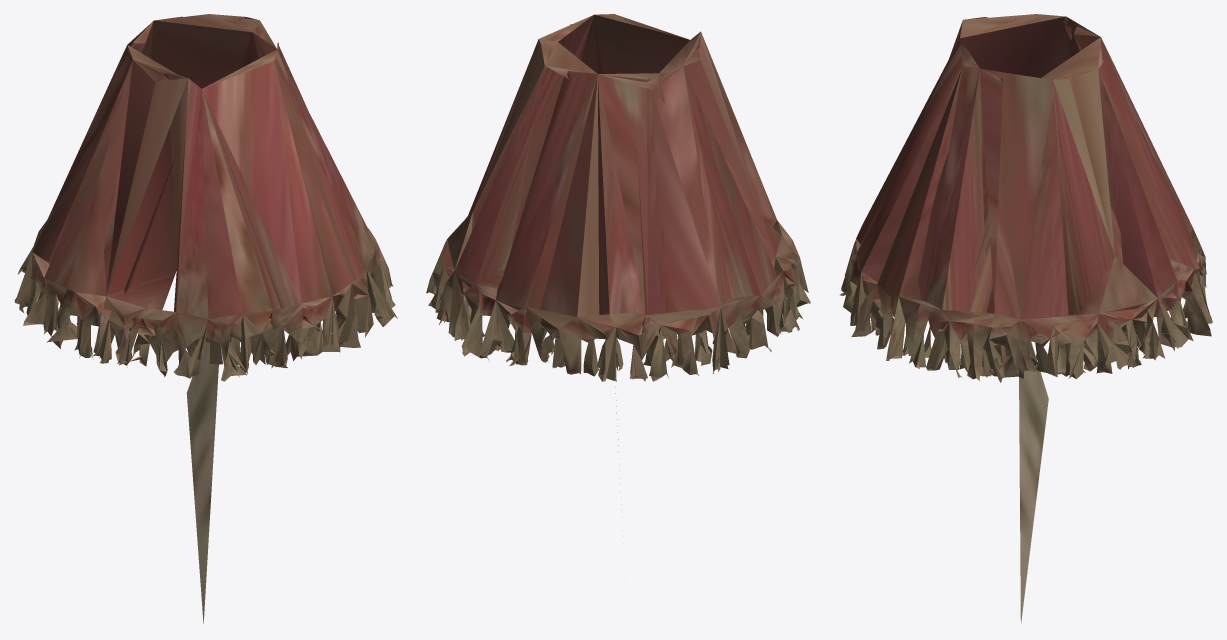
Rendered from up_lamp_shaded.glb.
The picture shows the model from 3 angles, left to right: view 1: azimuth 30°, elevation 25°; view 2: azimuth 150°, elevation 25°; view 3: azimuth 270°, elevation 25°; orthographic projection.
Parts seen in each view (by area): view 1: up_lamp_shaded; view 2: up_lamp_shaded; view 3: up_lamp_shaded.
Part boxes in pixels (x1,y1,x2,y2): up_lamp_shaded: [14, 14, 397, 623]; up_lamp_shaded: [426, 14, 810, 530]; up_lamp_shaded: [839, 14, 1212, 623].
Size of the model in its own units: 0.3308 by 0.55 by 0.3188.
1 material, 1 textured.
